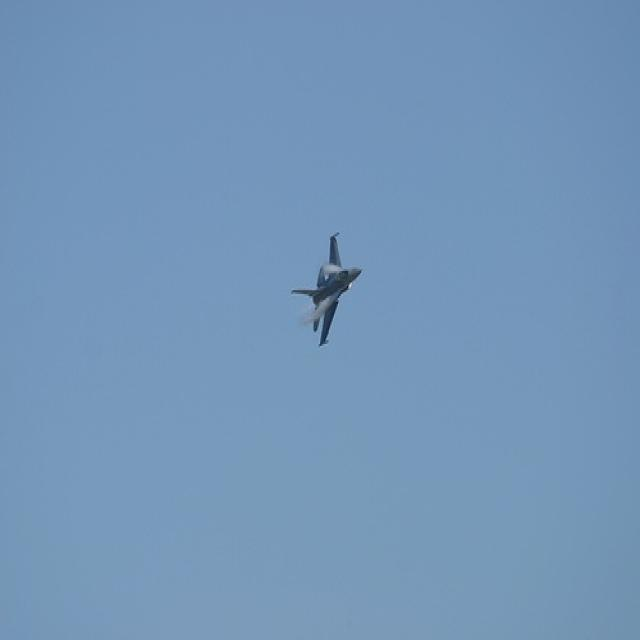aeroplane: (289, 231, 366, 346)
